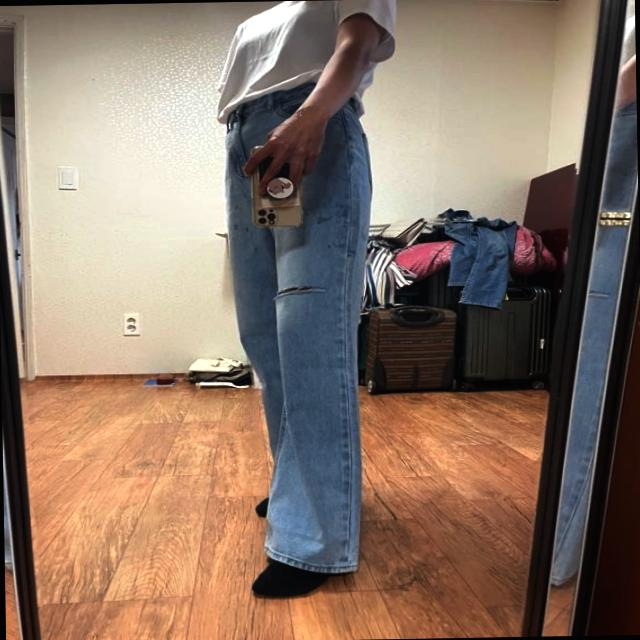denimpants: (218, 83, 382, 580)
shortsleeve: (210, 0, 395, 118)
